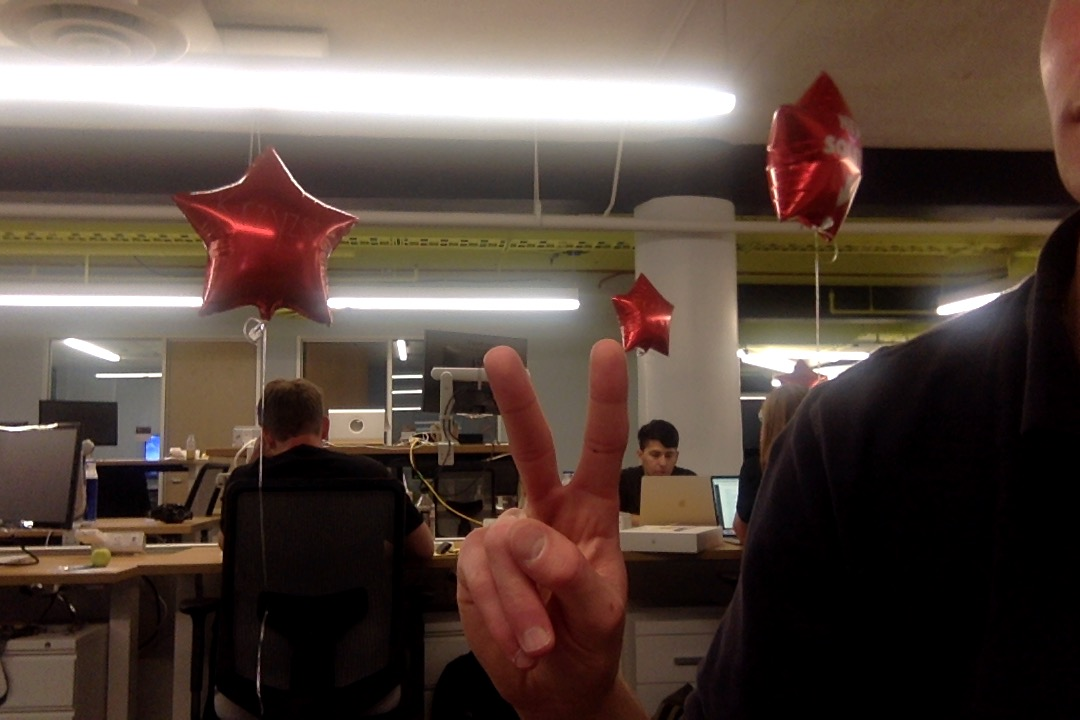v: (445, 334, 641, 703)
